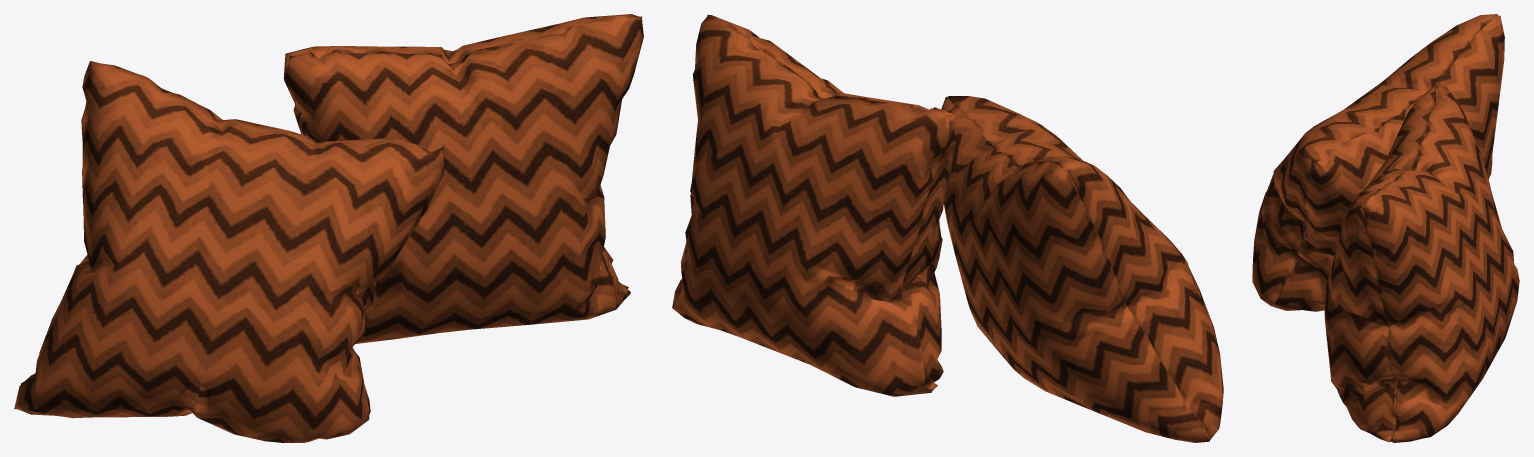
Rendered from pillows.glb.
3 renders of one model, left to right at view 1: azimuth 30°, elevation 25°; view 2: azimuth 150°, elevation 25°; view 3: azimuth 270°, elevation 25°, orthographic. The views are drawn at different scales.
Parts seen in each view (by area): view 1: tint_fabric; view 2: tint_fabric; view 3: tint_fabric.
Boxes of the visible parts, box(x1,y1,x2,y2) form: tint_fabric: box(14, 14, 643, 442); tint_fabric: box(672, 14, 1223, 442); tint_fabric: box(1252, 14, 1519, 442).
Size of the model in its own units: 0.9399 by 0.4501 by 0.4515.
1 material, 1 textured.
